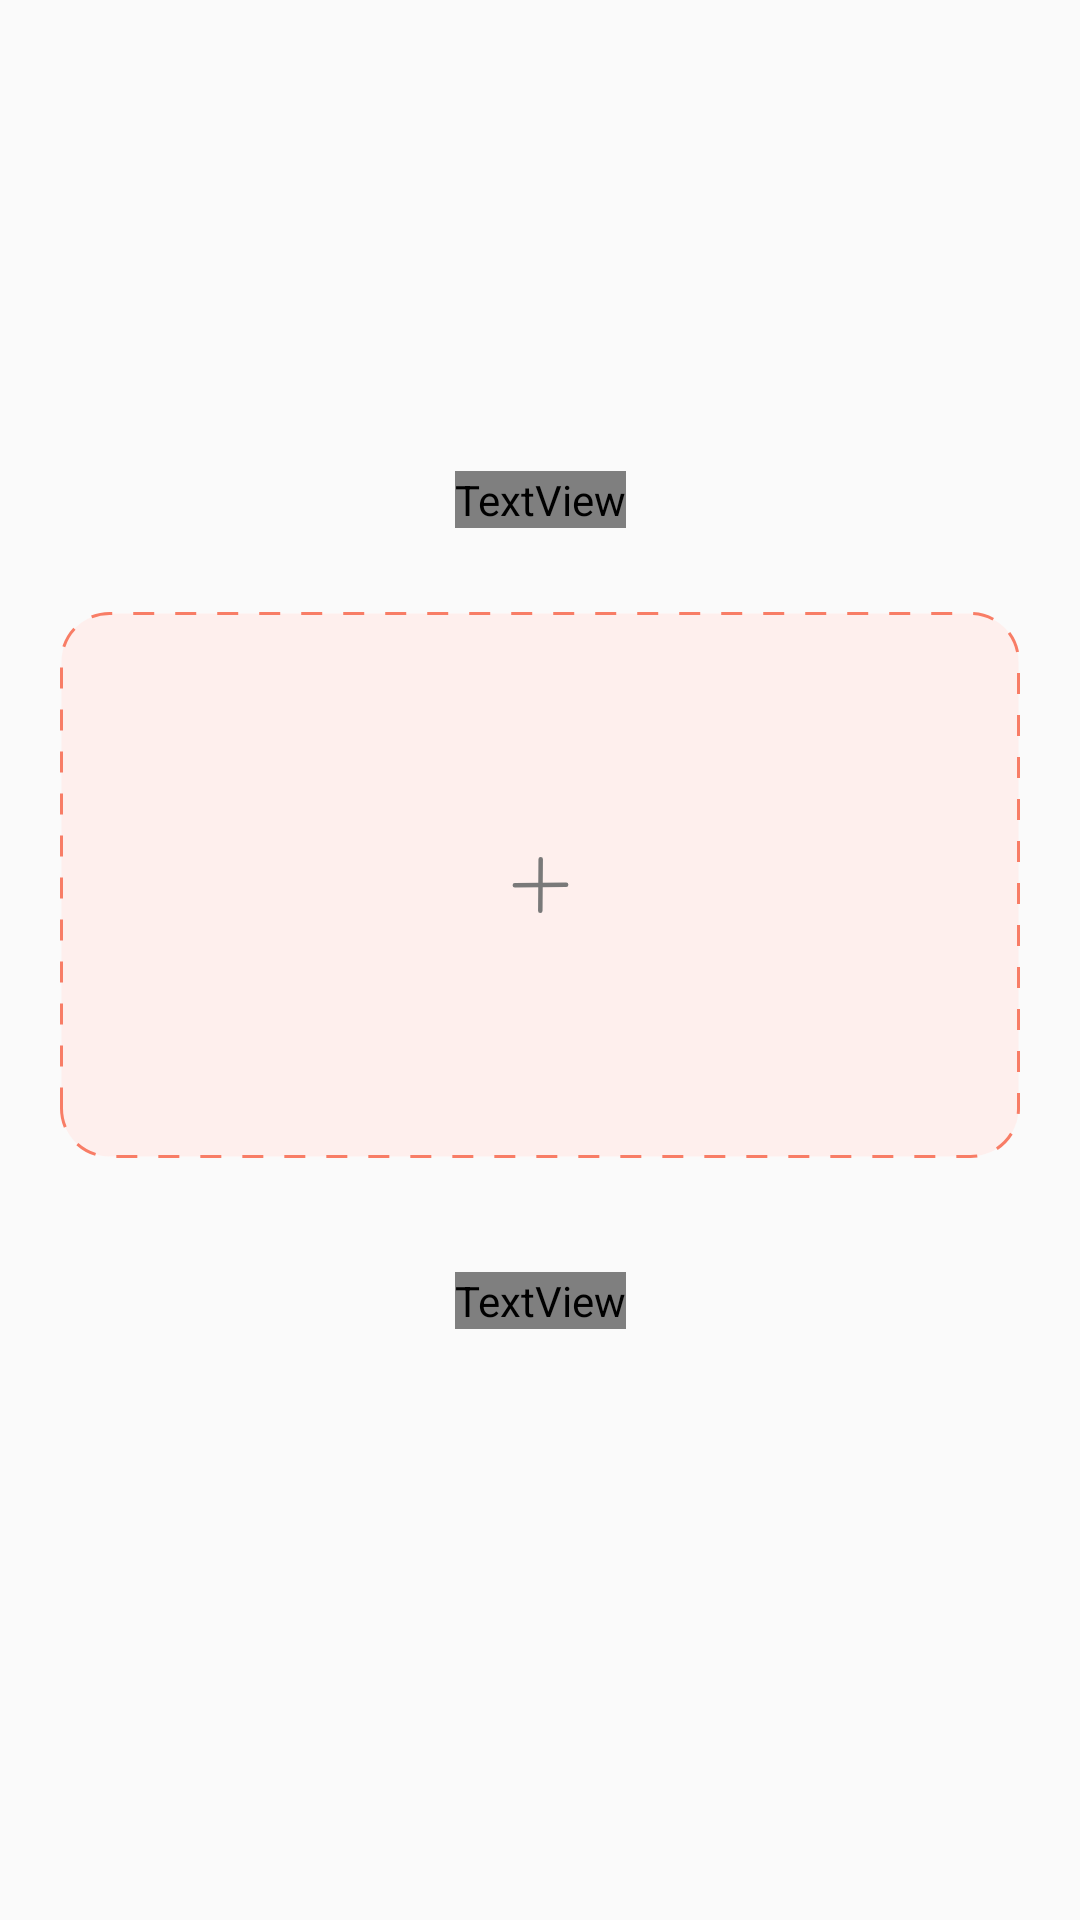

Screen size 1080x1920. Icon name, then its box in pixels as [x1,y1,x2,y2]:
plus: [512,857,569,913]
